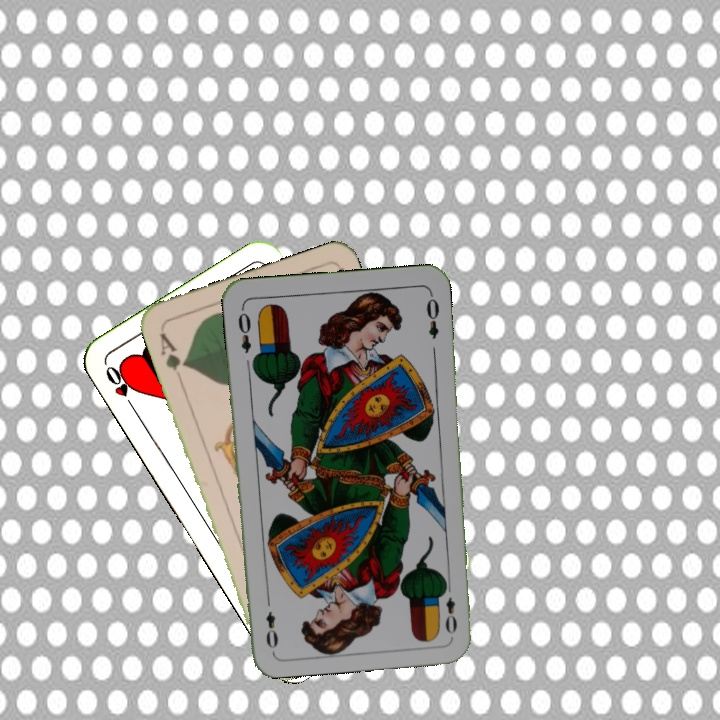EO: (438, 579, 460, 636), (233, 304, 254, 356)
GA: (155, 328, 189, 373)
HO: (101, 361, 139, 414)
